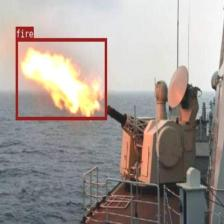fire: (15, 38, 107, 120)
